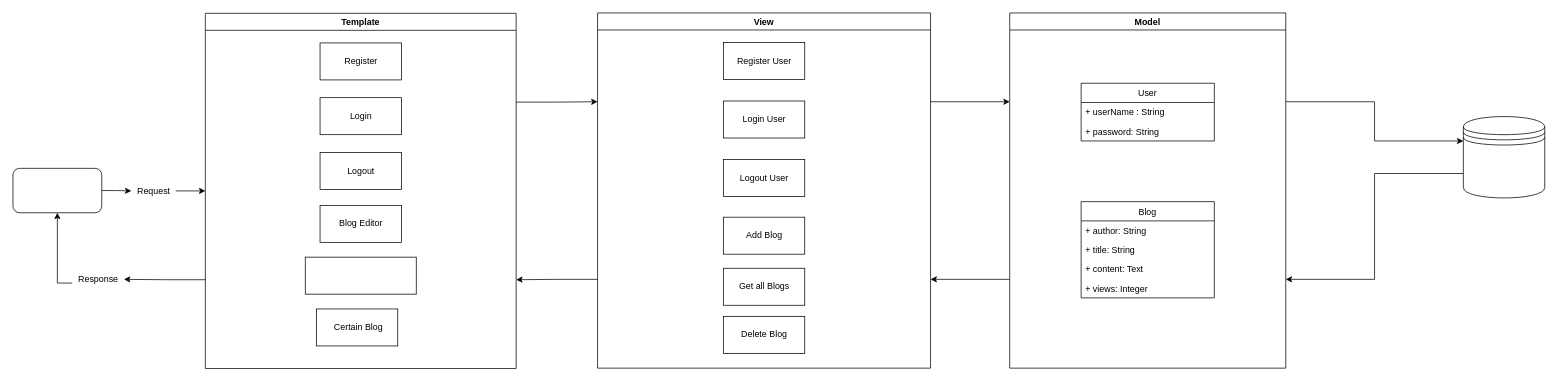
The diagram is 1558 pixels wide and 382 high, and some of its shapes have lost their labels. Here are the shapes that lost their labels. From the top down, the centre of each, then its label:
At (x=1504, y=157): "Database".
At (x=57, y=190): "Browser".
At (x=360, y=275): "Home (all Blogs)".
